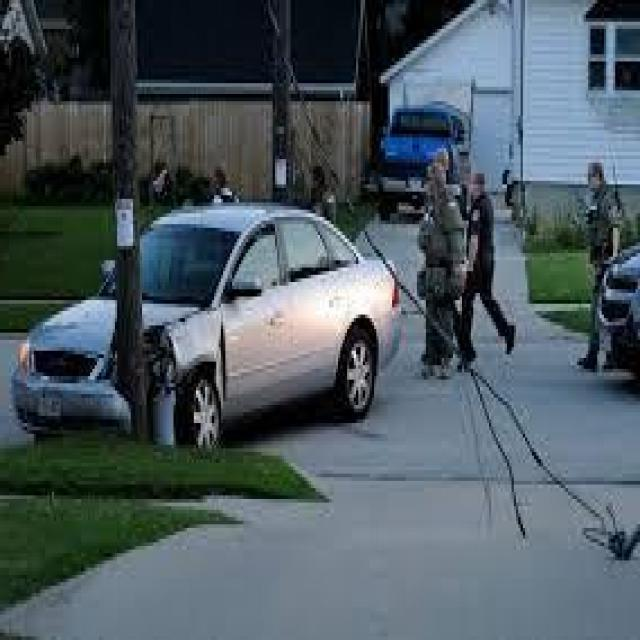accident: (5, 194, 410, 459)
